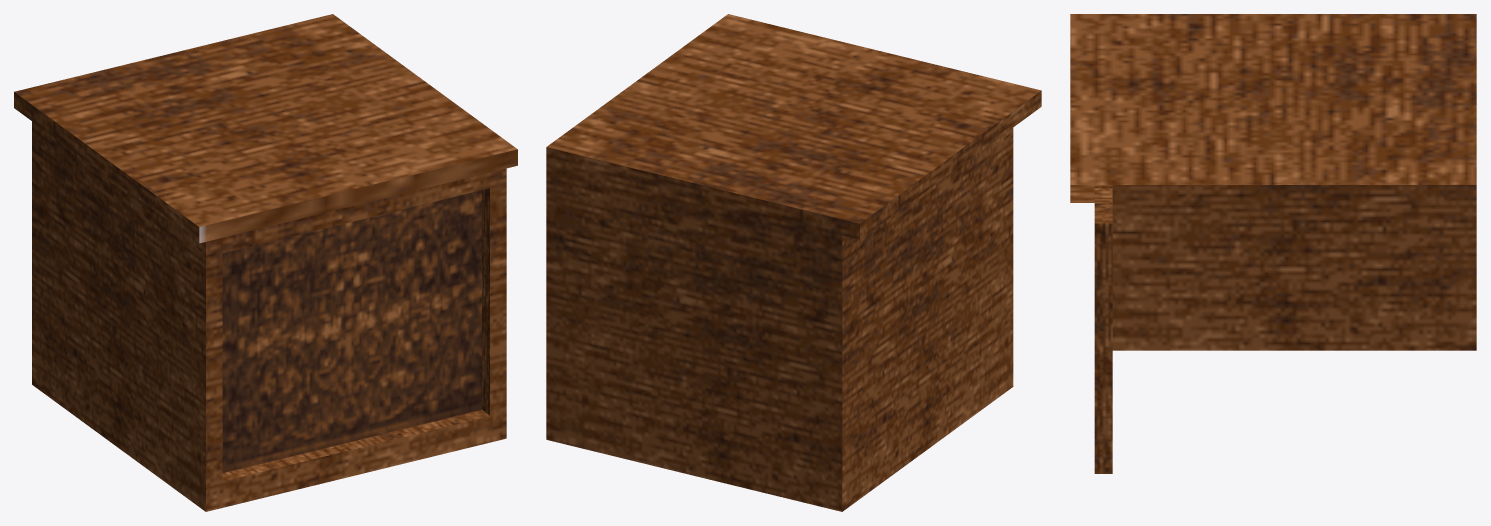
Rendered from SM_Dungeon_Counter_Corner_Outside.fbx.
3 renders of one model, left to right at view 1: azimuth 30°, elevation 25°; view 2: azimuth 150°, elevation 25°; view 3: azimuth 270°, elevation 25°, orthographic. The views are drawn at different scales.
Parts seen in each view (by area): view 1: SM_Dungeon_Counter_Corner_Outside; view 2: SM_Dungeon_Counter_Corner_Outside; view 3: SM_Dungeon_Counter_Corner_Outside.
Part boxes in pixels (x1,y1,x2,y2): SM_Dungeon_Counter_Corner_Outside: (14,14,517,511); SM_Dungeon_Counter_Corner_Outside: (546,14,1041,511); SM_Dungeon_Counter_Corner_Outside: (1070,14,1476,473).
Bounding box in the file's own units: 106 × 94.44 × 106.
